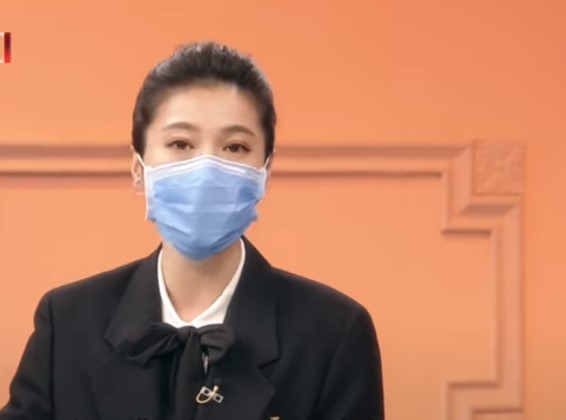face_with_mask: (129, 47, 276, 262)
